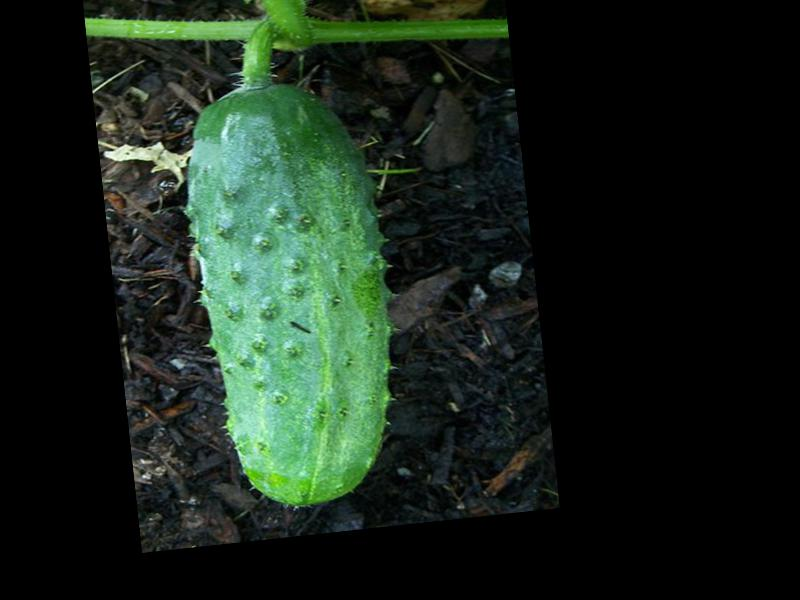Cucumber: (175, 72, 413, 517)
